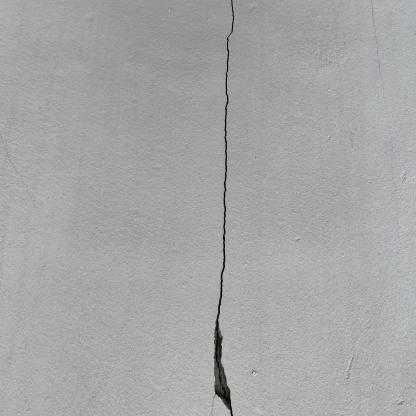crack: (213, 1, 234, 415)
